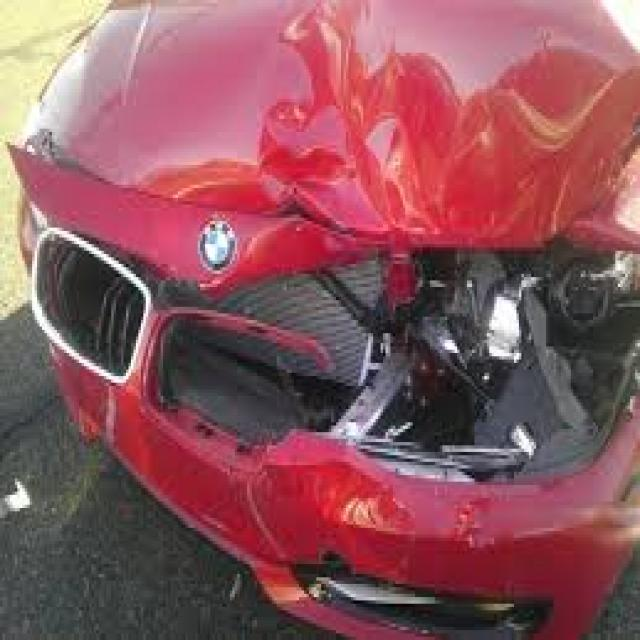moderate: (179, 3, 640, 640)
